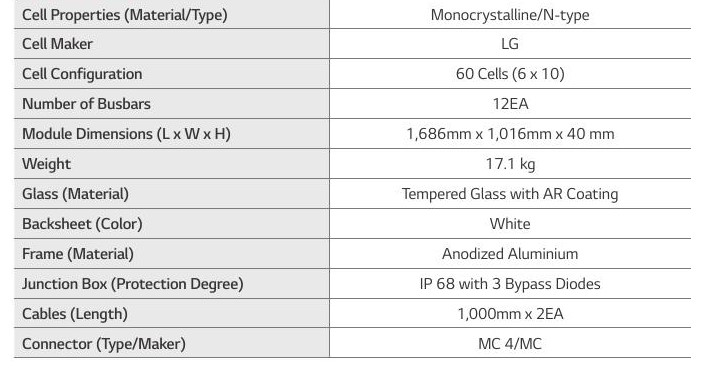table: (2, 1, 708, 365)
table column: (338, 1, 698, 362), (15, 2, 322, 362)
table row: (7, 329, 705, 355), (8, 271, 703, 297), (7, 152, 705, 177), (7, 212, 705, 237), (7, 242, 705, 267), (7, 92, 704, 116), (8, 62, 704, 86), (9, 32, 702, 56), (6, 301, 705, 324), (7, 122, 704, 145), (5, 183, 705, 205), (9, 4, 700, 25)
